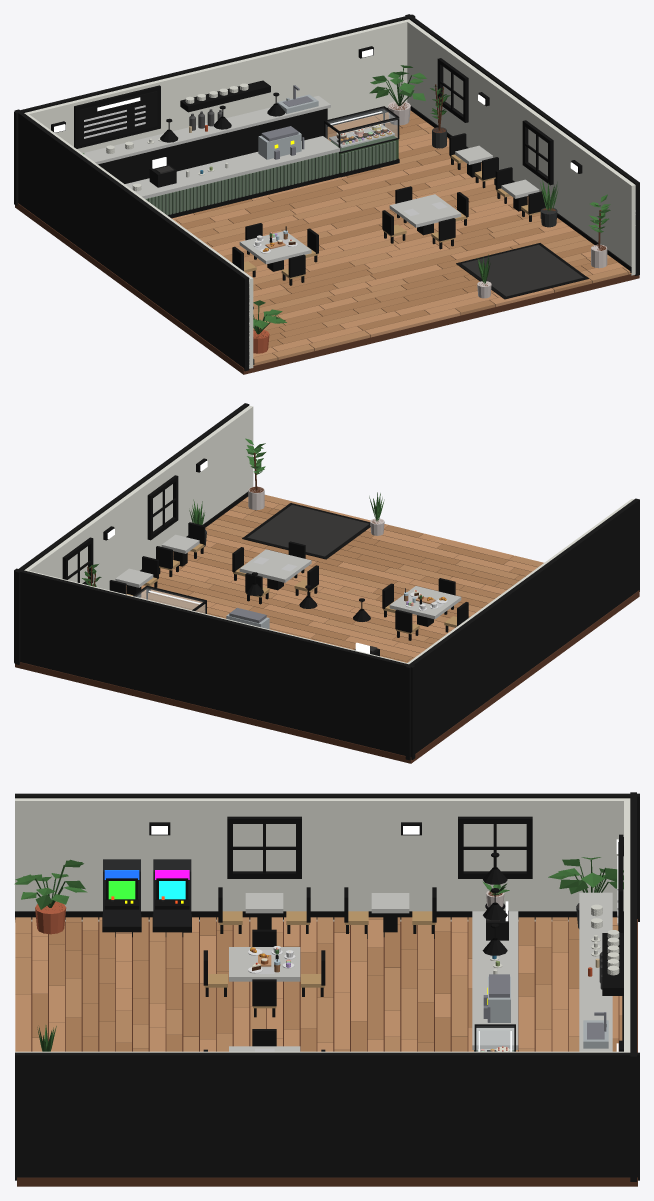
The model's file is cafe.glb.
The picture shows the model from 3 angles, top to bottom: view 1: azimuth 30°, elevation 25°; view 2: azimuth 150°, elevation 25°; view 3: azimuth 270°, elevation 25°; orthographic projection. The views are drawn at different scales.
Parts seen in each view (by area): view 1: CafeMerged, Cafe_CaseGlass; view 2: CafeMerged, Cafe_CaseGlass; view 3: CafeMerged, Cafe_CaseGlass.
Part boxes in pixels (x1,y1,x2,y2): CafeMerged: (14, 14, 639, 374); Cafe_CaseGlass: (326, 108, 398, 151); CafeMerged: (14, 403, 639, 763); Cafe_CaseGlass: (136, 587, 205, 613); CafeMerged: (14, 792, 639, 1186); Cafe_CaseGlass: (476, 1026, 513, 1051).
Bounding box in the file's own units: 14.9 × 3.61 × 14.92.
2 materials, 1 textured.
